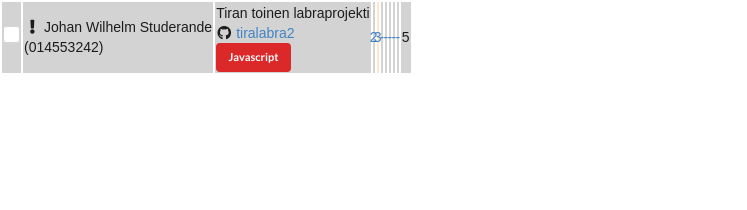
<StudentTableRow /> › StudentTableRow Component › marks points changed by someone other than the assigned instructor
Hover over the cell "3": x=378, y=37 [377,2,379,73]
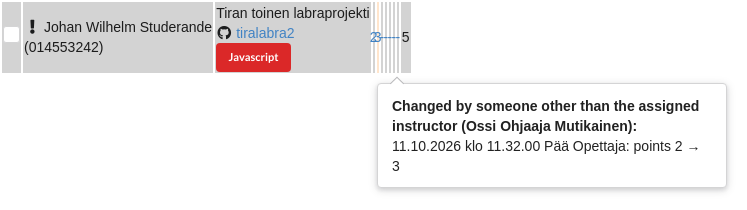
Check: the text "Changed by someone other than the assigned instructor (Ossi Ohjaaja Mutikainen)" is shown, box [392,98,699,134]
